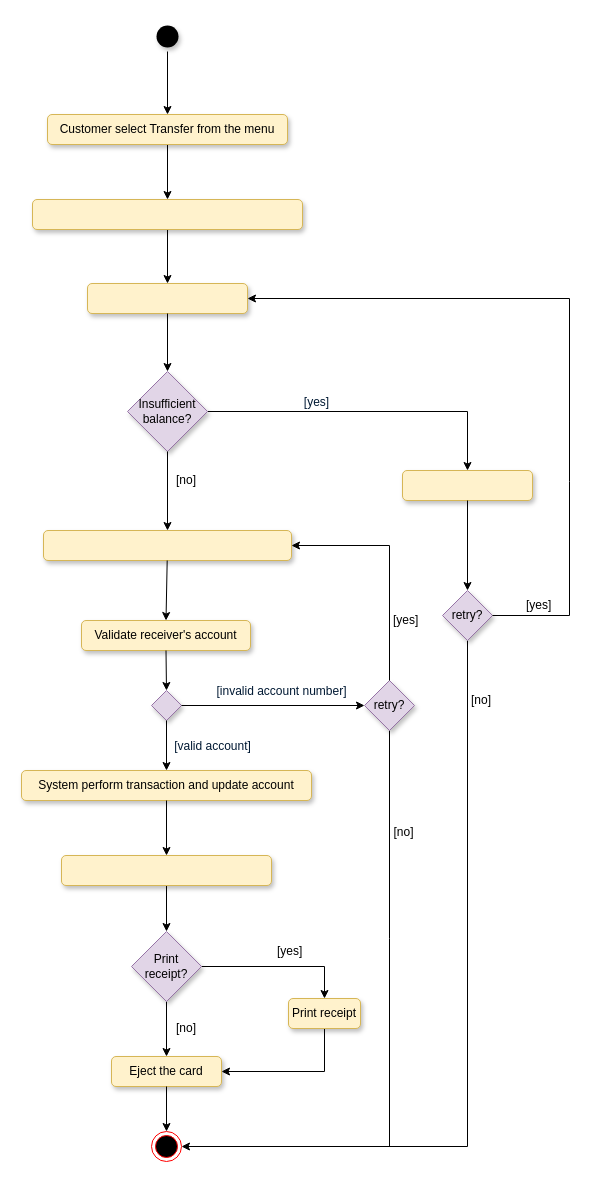
This 595x1179 diagram has some shape labels left out. Each missing label, with the centre of its shape:
"Customer enters the amount" belongs at (x=168, y=299).
"Enter number of receiver's account" belongs at (x=168, y=547).
"Show message, not enough money" belongs at (x=468, y=487).
"Show success message to customer" belongs at (x=167, y=871).
"System asks to enter the amount to transfer" belongs at (x=168, y=215).
